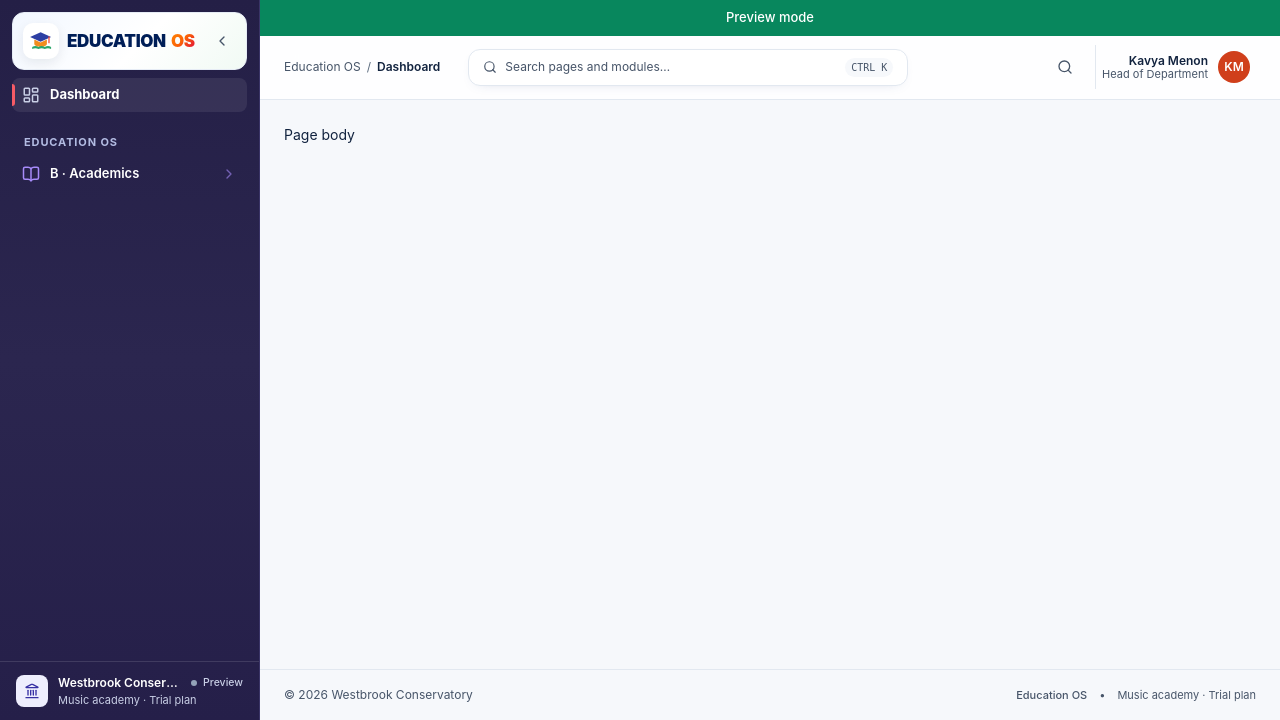
Test case: AppShell › closes the account menu with Escape and gives focus back to its button
Click the button "Kavya Menon Head of Department KM" at [1176, 67], box [1095,45,1256,89]
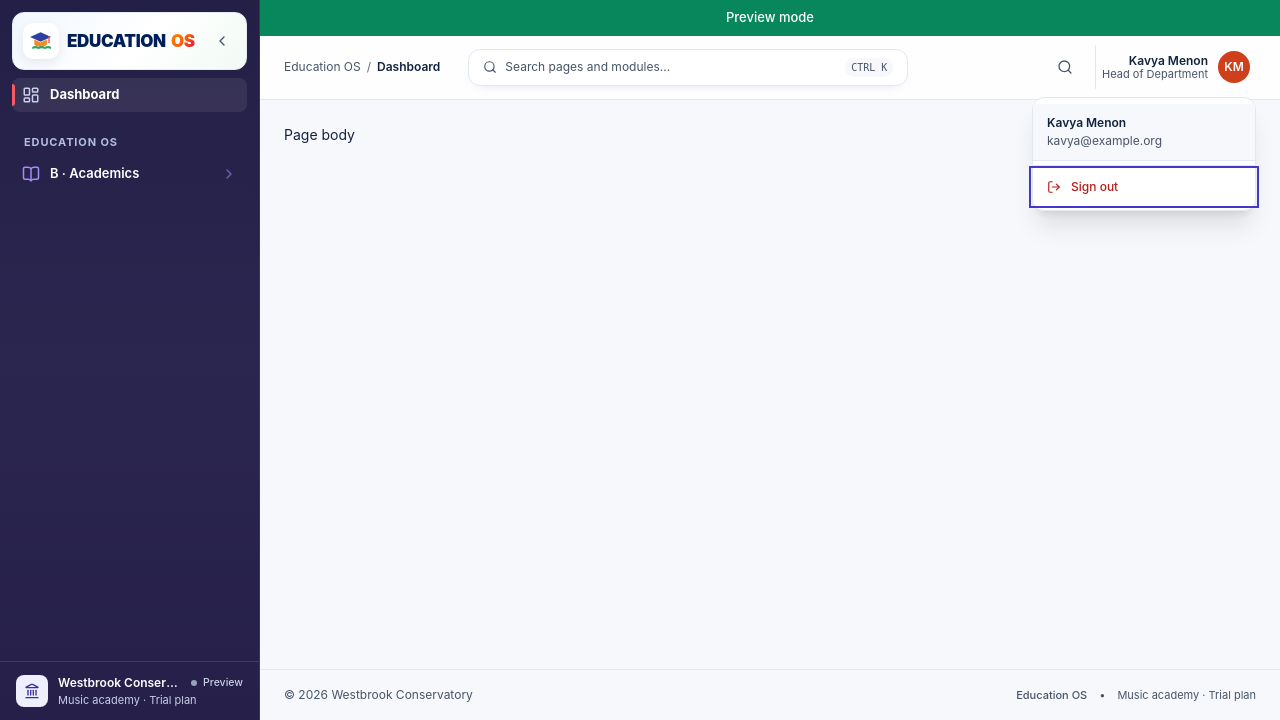
Press Escape
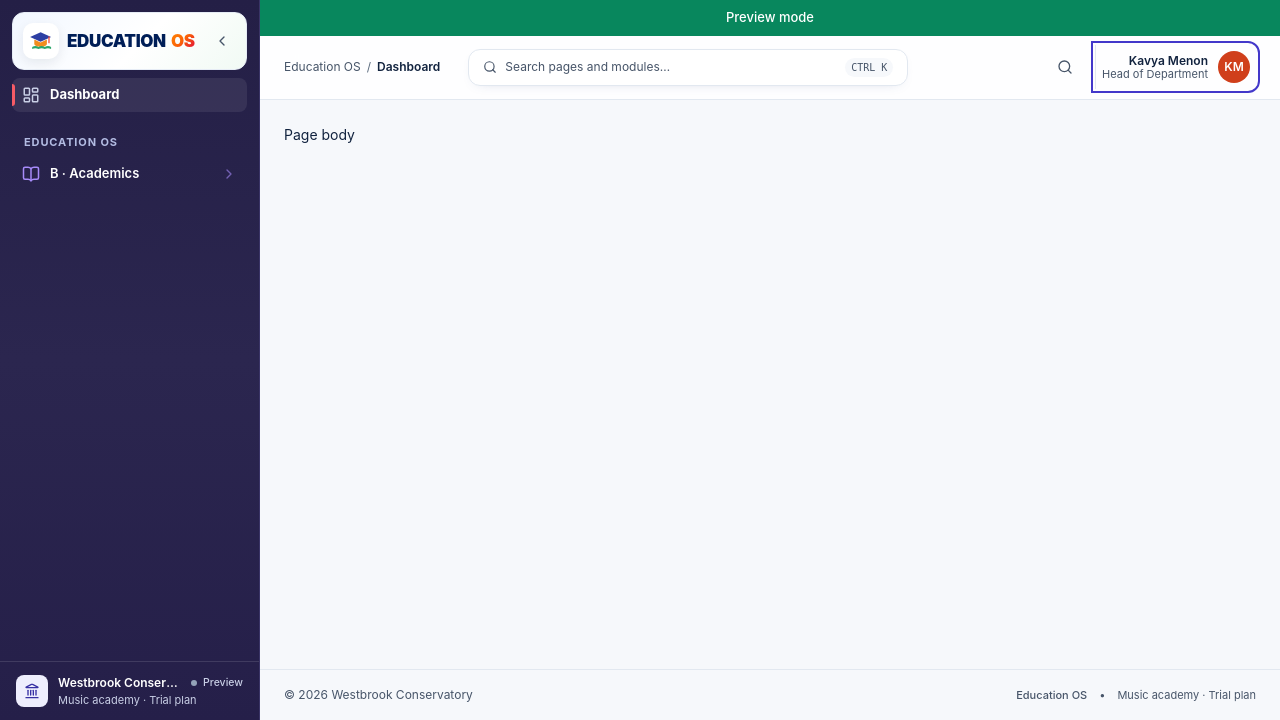
Expected: the menu is gone
